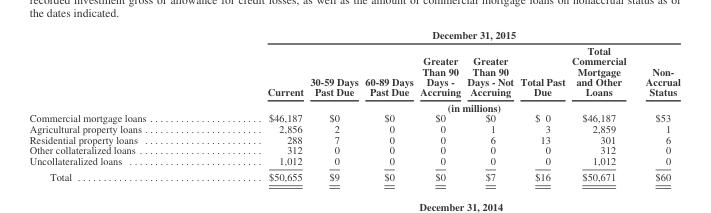table: (28, 28, 679, 182)
table column: (28, 28, 206, 182), (206, 28, 306, 182), (567, 28, 635, 182), (306, 28, 361, 182), (361, 28, 416, 182), (463, 28, 516, 182), (516, 28, 567, 182), (416, 28, 463, 182), (635, 28, 679, 182)
table column header: (28, 28, 679, 112)
table row: (28, 42, 679, 99), (28, 28, 679, 42), (28, 168, 679, 182), (28, 99, 679, 112), (28, 155, 679, 168), (28, 112, 679, 123), (28, 133, 679, 144), (28, 144, 679, 155), (28, 123, 679, 133)
table spanning cell: (206, 28, 679, 42), (206, 99, 679, 112)
